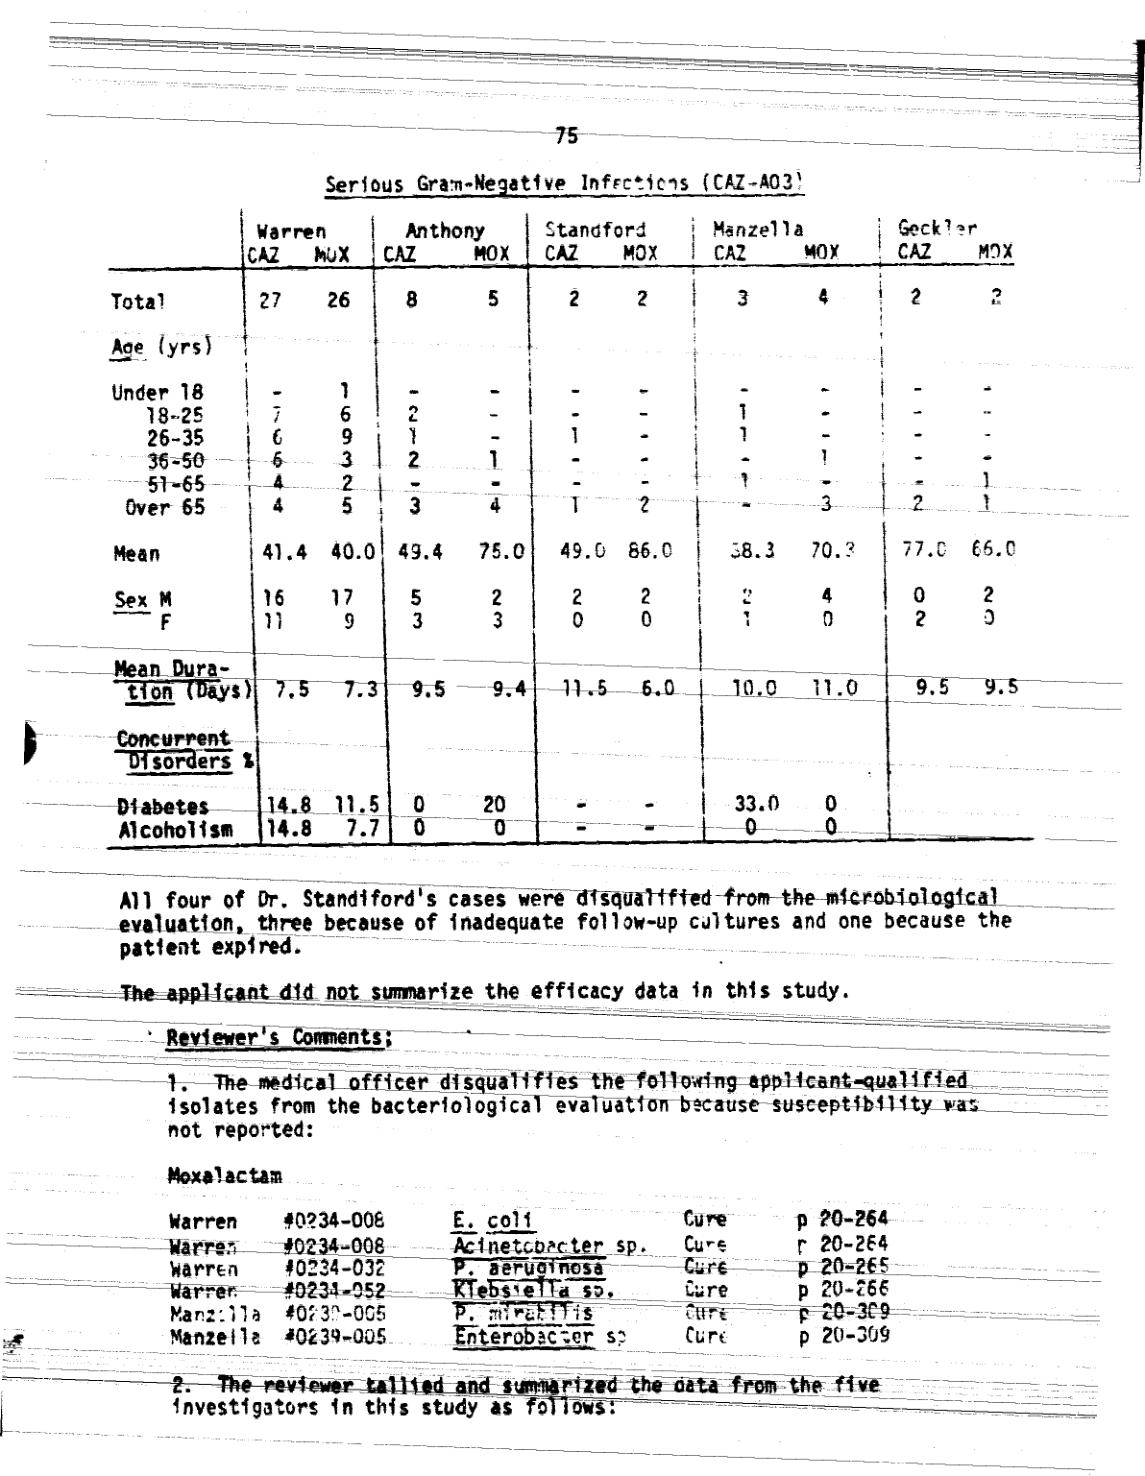nolines: (147, 1200, 914, 1363)
partial_lined: (93, 208, 1049, 853)
